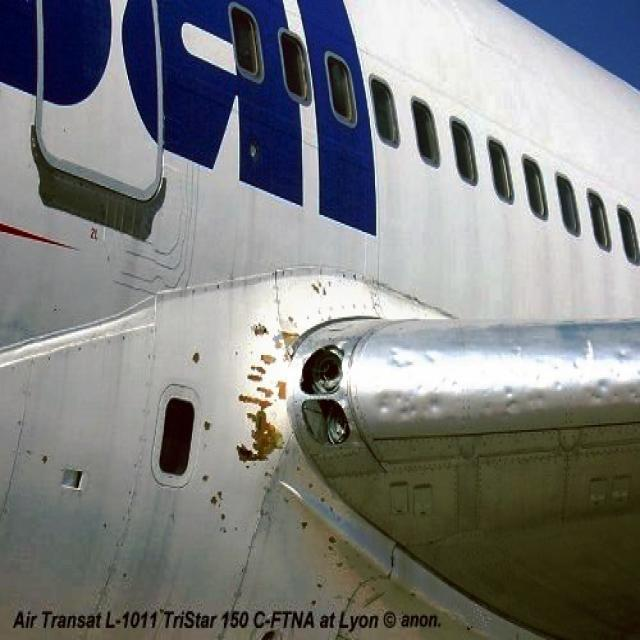dent: (375, 340, 640, 428)
